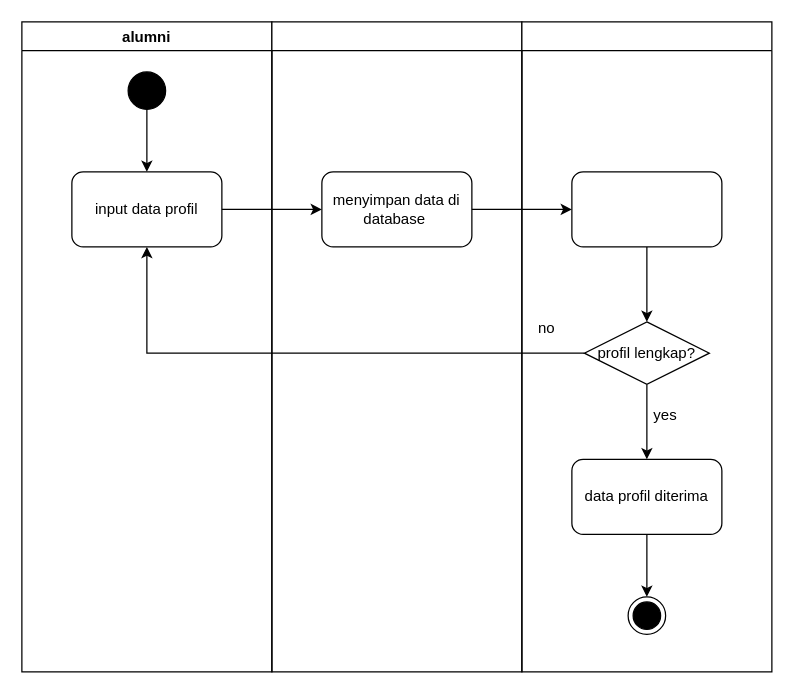
The diagram is 794 pixels wide and 694 high, and some of its shapes have lost their labels. Here are the shapes that lost their labels. From the top down, the box of each, then its label:
(571, 171, 722, 247): mengelola data profil
(271, 21, 522, 672): sistem
(521, 21, 772, 672): admin
